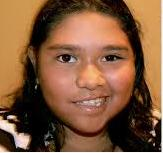strokeEyeMid: (50, 44, 130, 65)
strokeMouthMid: (70, 94, 113, 116)
